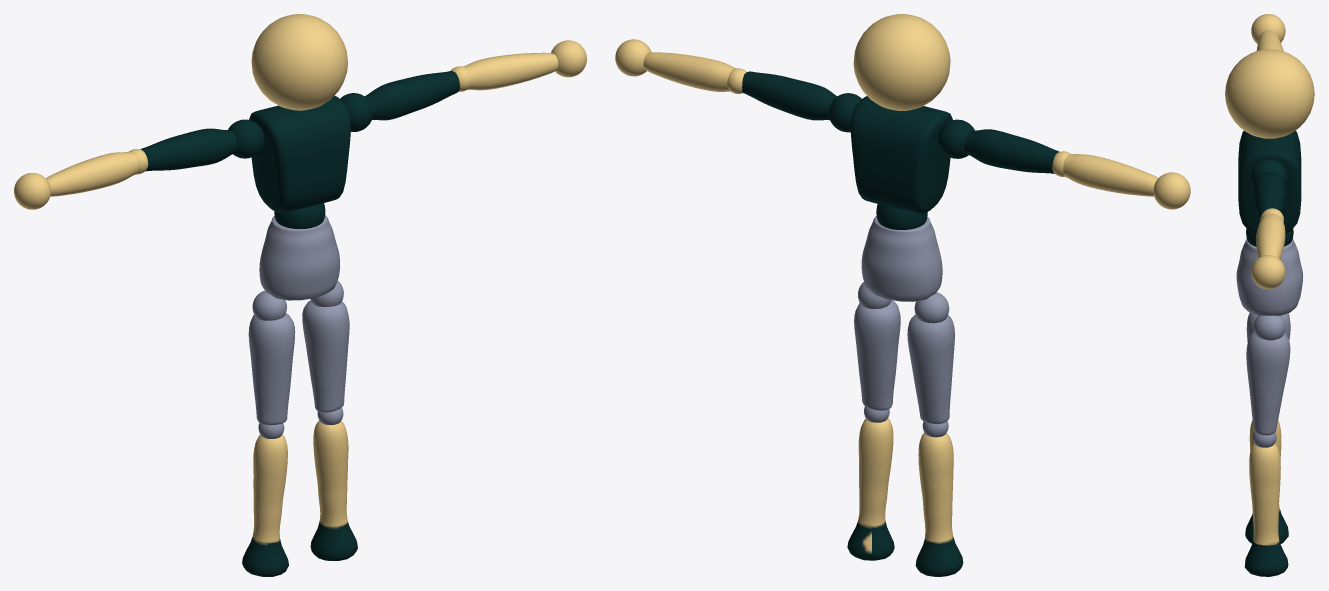
The model's file is WoodyCharacter3.fbx.
3 renders of one model, left to right at view 1: azimuth 30°, elevation 25°; view 2: azimuth 150°, elevation 25°; view 3: azimuth 270°, elevation 25°, orthographic. The views are drawn at different scales.
Parts seen in each view (by area): view 1: Chest, Head, Hips, LLowerLeg, RLowerLeg, LUpperLeg, RUpperLeg, RUpperArm, UpperArm, RLowerArm, LLowerArm, RHand (+5 smaller); view 2: Chest, Head, Hips, RLowerLeg, LLowerLeg, RUpperLeg, LUpperLeg, UpperArm, RUpperArm, RLowerArm, LLowerArm, RHand (+5 smaller); view 3: Head, LLowerLeg, Chest, LUpperLeg, Hips, LLowerArm, UpperArm, LHand, LStartLegs, RLowerLeg, RHand, LShoulder (+4 smaller).
Boxes of the visible parts, x1,y1,x2,y2 form: Chest: (249,95,350,212); Head: (251,14,347,110); Hips: (259,215,339,300); LLowerLeg: (310,420,357,560); RLowerLeg: (242,434,288,576); LUpperLeg: (302,300,349,412); RUpperLeg: (248,313,295,425); RUpperArm: (140,128,237,171); UpperArm: (365,71,459,120); RLowerArm: (46,152,138,196); LLowerArm: (463,52,558,90); RHand: (14,173,50,209); Chest: (850,96,952,213); Head: (853,14,950,110); Hips: (861,216,942,301); RLowerLeg: (915,432,963,576); LLowerLeg: (847,418,894,560); RUpperLeg: (907,314,954,424); LUpperLeg: (854,300,900,410); UpperArm: (742,71,836,120); RUpperArm: (964,129,1059,173); RLowerArm: (1063,153,1158,196); LLowerArm: (643,52,735,91); RHand: (1153,172,1190,209); Head: (1225,49,1314,138); LLowerLeg: (1244,443,1288,576); Chest: (1238,130,1301,234); LUpperLeg: (1246,331,1290,435); Hips: (1236,238,1303,315); LLowerArm: (1256,213,1285,259); UpperArm: (1253,172,1286,219); LHand: (1251,255,1285,289); LStartLegs: (1254,315,1285,340); RLowerLeg: (1245,420,1288,543); RHand: (1251,14,1285,44); LShoulder: (1251,159,1287,186).
Size of the model in its own units: 179 by 164 by 28.07.
